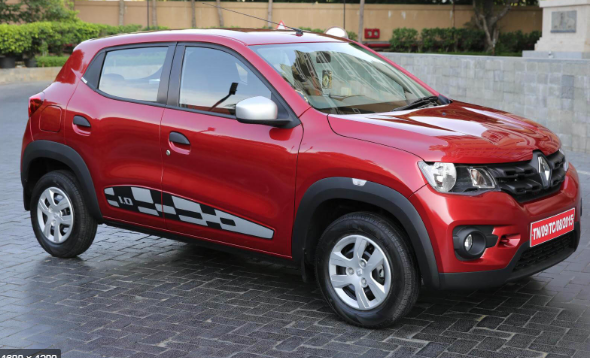car: (17, 19, 585, 327)
